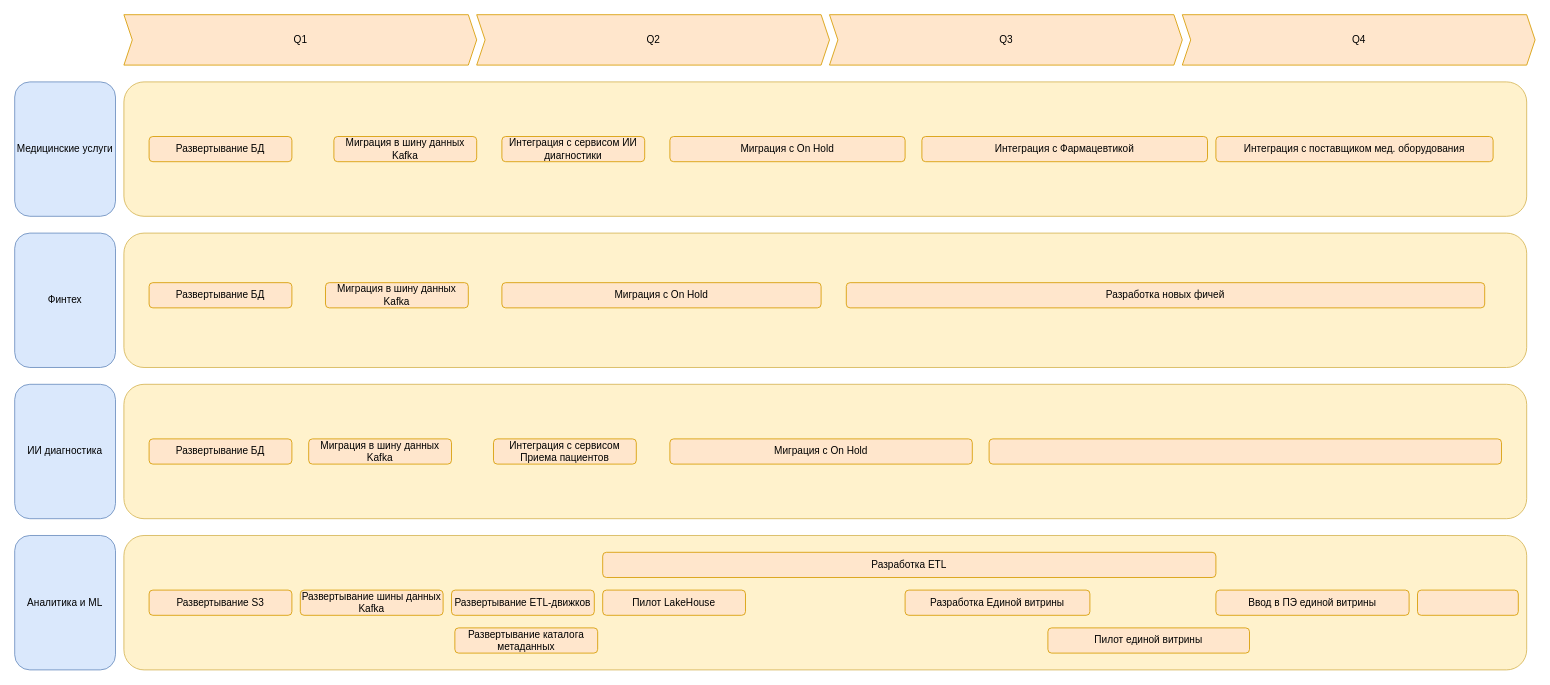
Some shapes in this 1550 by 685 pixel diagram are drawn without their labels. Here are the shapes that lost their labels. From the top down, the centre of each, then its label:
the point at 1245,451: Разработка внутренних моделей
the point at 1467,602: Вывод из ПЭ DWH
